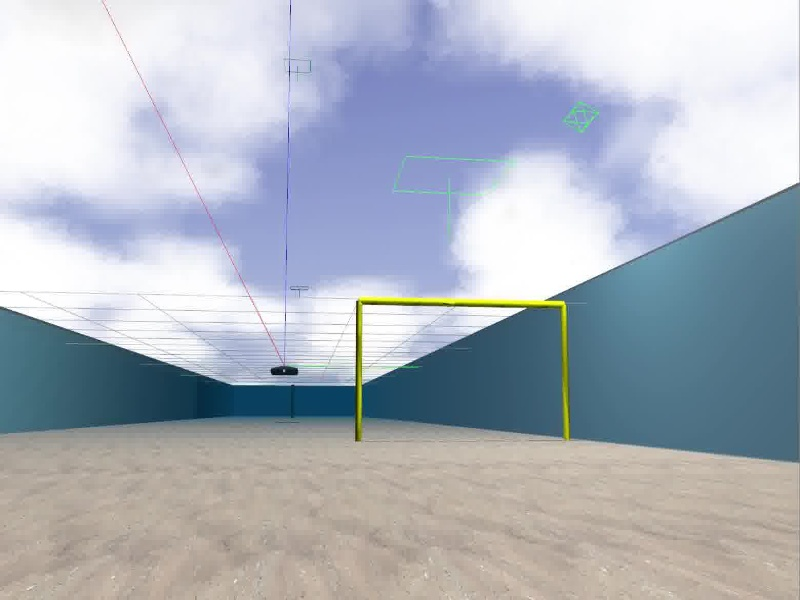gate: (355, 295, 571, 445)
